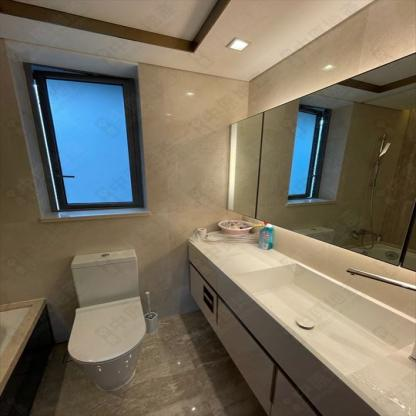Faucet: (345, 263, 409, 297)
Toilet: (66, 245, 143, 387)
Toilet Sink: (230, 264, 415, 376)
